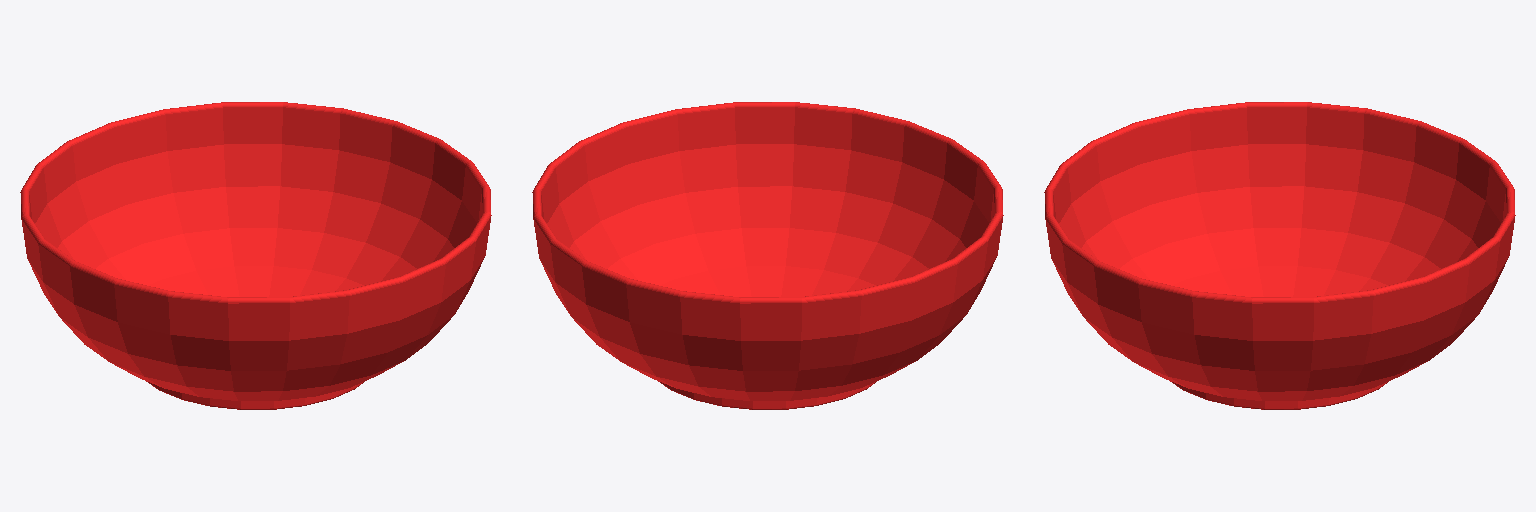
robot.urdf — bowl:
<?xml version="0.0" ?>
<robot name="bowl">
    <link concave="yes" name="base_link">
        <!-- <contact>
            <lateral_friction value="3.0"/>
            <rolling_friction value="3.0"/>
            <spinning_friction value="3.0"/>
        </contact> -->
        <inertial>
            <origin xyz="0 0 0.03"/>
            <mass value="1"/>
            <inertia ixx="1" ixy="0" ixz="0" iyy="1" iyz="0" izz="1"/>
        </inertial>
        <visual>
            <origin xyz="-0.06 -0.06 0"/>
            <geometry>
                <mesh filename="bowl.obj" scale="0.009 0.009 0.009 "/>
            </geometry>
      <material name="bowl">
        <color rgba="1 0.2 0.2 1"/>
        <specular rgb="1 1 1"/>
      </material>
        </visual>
        <collision concave="yes">
            <origin xyz="-0.06 -0.06 0"/>
            <geometry>
                <mesh filename="bowl.obj" scale="0.009 0.009 0.009 "/>
            </geometry>
        </collision>
    </link>
</robot>

--- Render facts (derived) ---
Views: 3 orthographic renders of the robot side by side, from view 1: azimuth 30°, elevation 25°; view 2: azimuth 150°, elevation 25°; view 3: azimuth 270°, elevation 25°.
Model bowl with 1 links and 0 joints (none), rooted at base_link, posed all joints at 0.
Links seen in each view (by area): view 1: base_link; view 2: base_link; view 3: base_link.
Link boxes in pixels (<box>): base_link: <box>20,102,491,409</box>; base_link: <box>532,102,1003,409</box>; base_link: <box>1044,102,1515,409</box>.
Size in the robot's own frame: 0.1299 by 0.1299 by 0.0482 metres.
Meshes: 1 distinct files referenced, 1 mesh visuals loaded (1 OBJ).